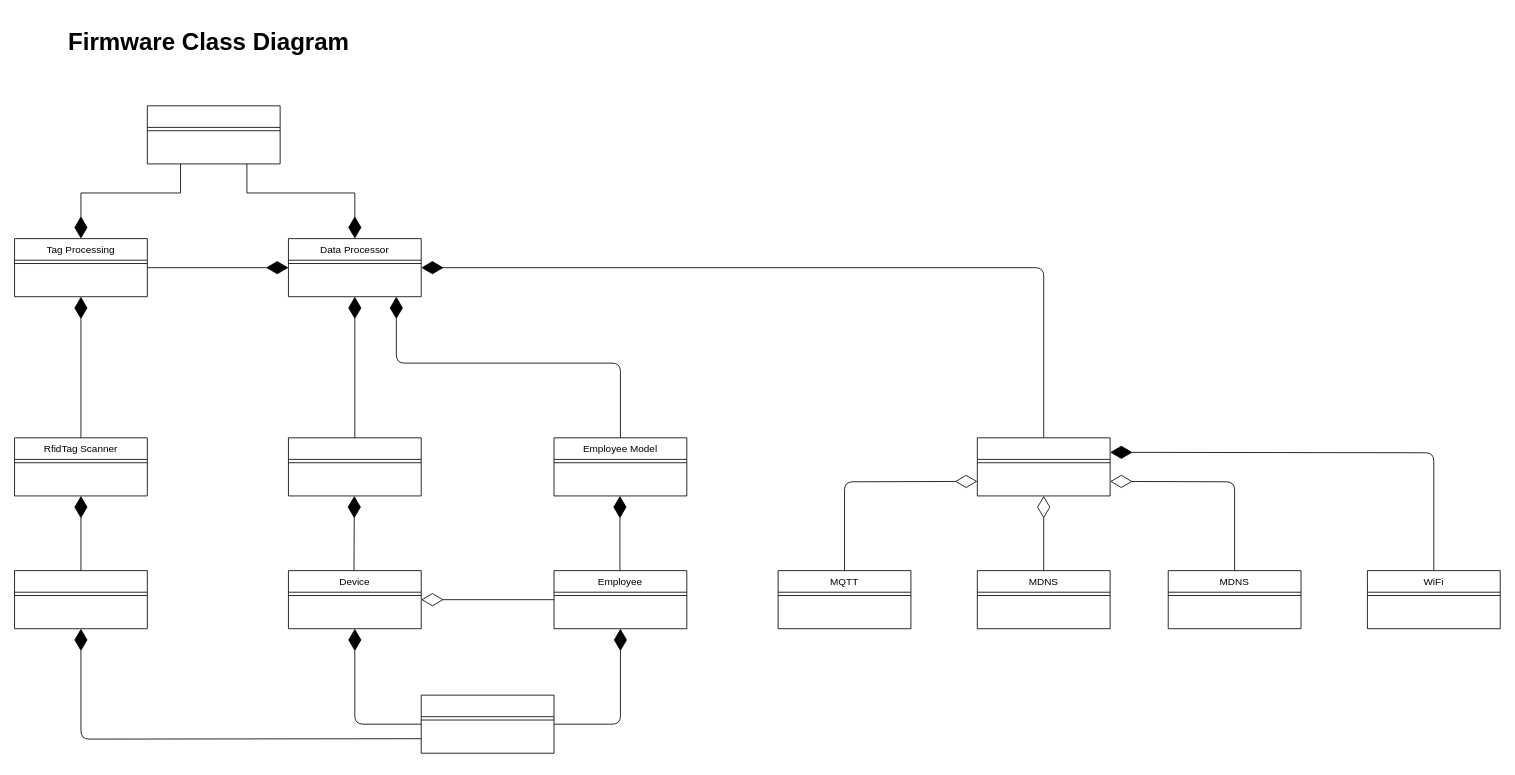
Some shapes in this 1515 by 775 pixel diagram are drawn without their labels. The shapes that lost their labels are listed below. From the top down, each one's box as (x1, y1, x2, y2) in pixels, then its label:
(146, 105, 280, 164): Main Application
(288, 437, 421, 496): Device Model
(976, 437, 1110, 496): Network Service
(14, 570, 147, 629): RfidTag Model/List
(420, 694, 554, 753): Rfid Tag
